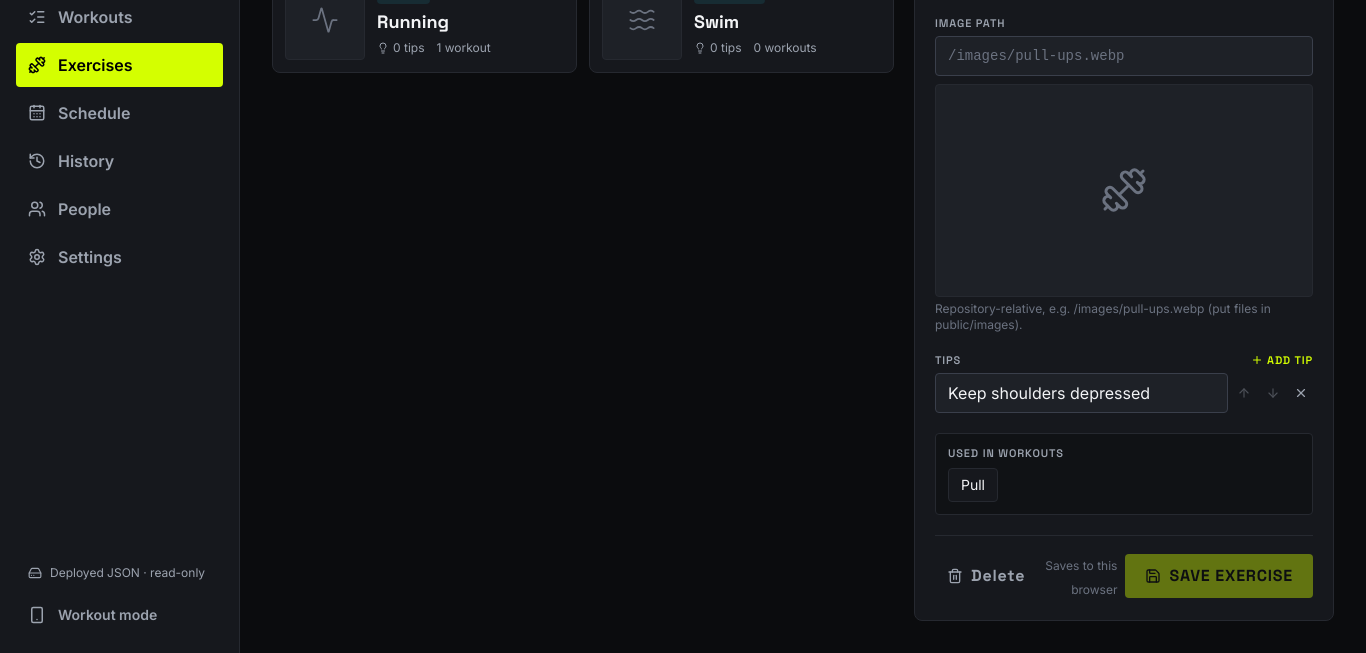
Test: management mode › blocks deleting an exercise that workouts use
The width and height of the screenshot is (1366, 653).
(page scrolled)
Click the button "Delete" at (986, 576), box [935,554,1037,598]
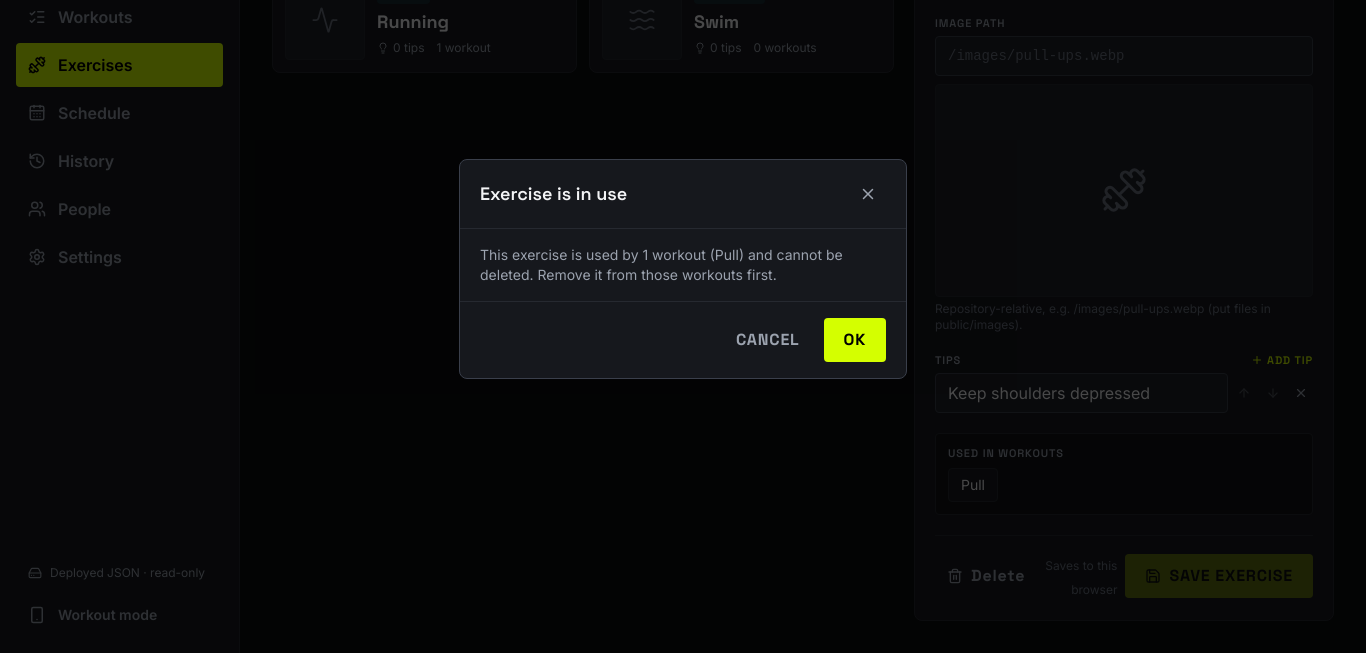
Expected: the text "used by 1 workout (Pull) and cannot be deleted" is shown, [480,245,886,285]
